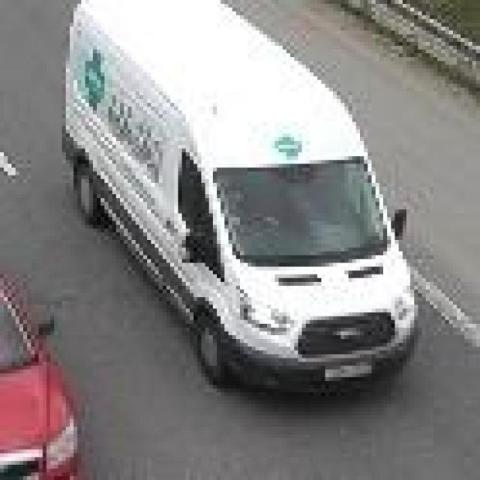van: (64, 0, 420, 392)
